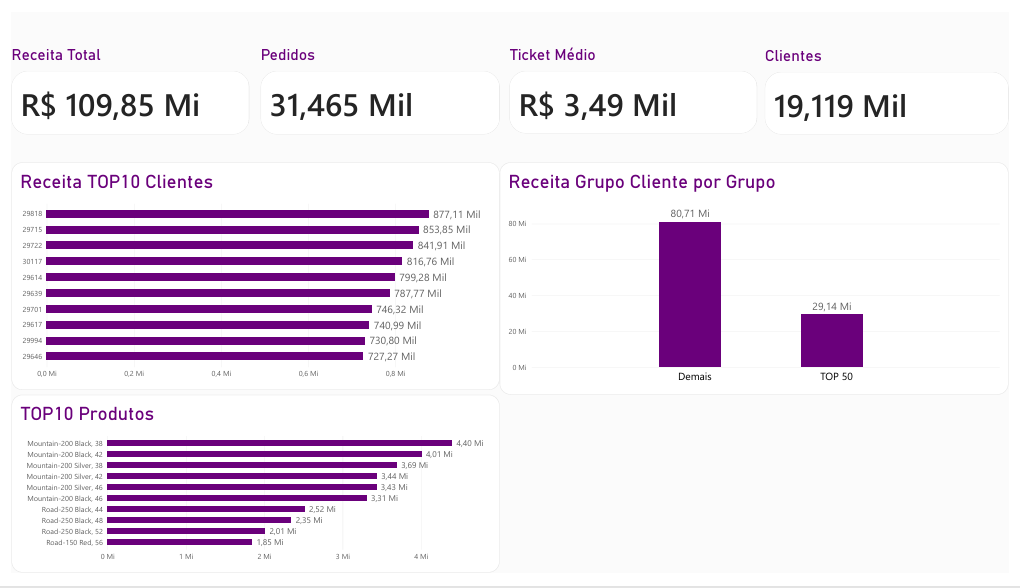

Layout of this report page (visuals, bound fields, positions):
{"tool":"powerbi","page":{"name":"Clientes e Produtos","canvas":[1920,1080],"ordinal":1},"visuals":[{"type":"cardVisual","title":"Receita Total","fields":{"Data":["Sales SalesOrderDetail.Receita"]},"box":[0,62.6,457.9,172.8],"z":0},{"type":"cardVisual","title":"Pedidos","fields":{"Data":["Sales SalesOrderHeader.Pedidos"]},"box":[479.5,62.6,460.1,172.8],"z":1000},{"type":"cardVisual","title":"Clientes","fields":{"Data":["Sales SalesOrderHeader.Clientes"]},"box":[1451.3,64.8,468.7,170.6],"z":2000},{"type":"cardVisual","title":"Ticket Médio","fields":{"Data":["Sales SalesOrderHeader.TicketMédio"]},"box":[959,62.6,477.4,170.6],"z":3000},{"type":"barChart","title":"Receita TOP10 Clientes","fields":{"Y":["Sales SalesOrderDetail.Receita"],"Category":["Sales Customer.CustomerID"]},"box":[0,289.4,939.6,438.5],"z":4000},{"type":"columnChart","fields":{"Y":["Calendario.Receita Grupo Cliente"],"Category":["Grupo Cliente.Grupo"]},"box":[939.6,289.4,980.6,447.1],"z":5000},{"type":"barChart","title":"TOP10 Produtos","fields":{"Category":["Production Product.Name"],"Y":["Sales SalesOrderDetail.Receita"]},"box":[0,736.6,940,343],"z":6000}]}

Visuals, with their boxes in screenshot pixels (x1, y1, x2, y2), scaled from the page's 1920x1080 canvas onto the 1020x588 screenshot:
"Receita Total" cardVisual: (0, 34, 243, 128)
"Pedidos" cardVisual: (255, 34, 499, 128)
"Clientes" cardVisual: (771, 35, 1019, 128)
"Ticket Médio" cardVisual: (509, 34, 763, 127)
"Receita TOP10 Clientes" barChart: (0, 158, 499, 396)
columnChart - Calendario.Receita Grupo Cliente x Grupo Cliente.Grupo: (499, 158, 1019, 401)
"TOP10 Produtos" barChart: (0, 401, 499, 587)
